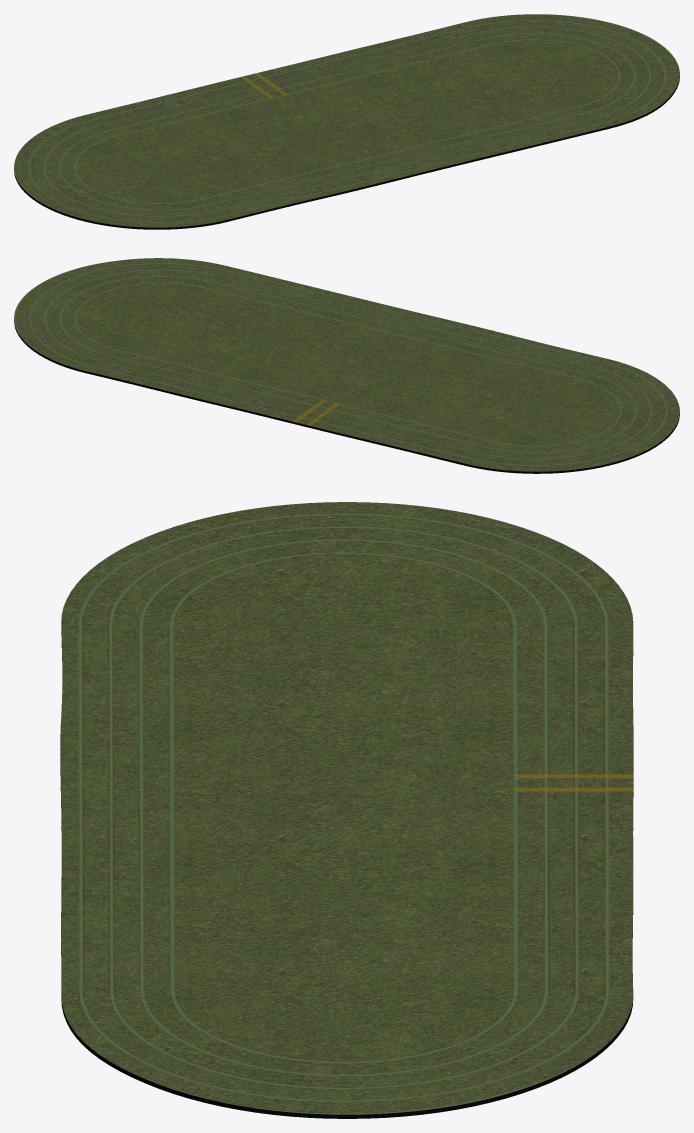
The model's file is Truck3d_d5.glb.
The picture shows the model from 3 angles, top to bottom: view 1: azimuth 30°, elevation 25°; view 2: azimuth 150°, elevation 25°; view 3: azimuth 270°, elevation 25°; orthographic projection. The views are drawn at different scales.
Parts seen in each view (by area): view 1: path133; view 2: path133; view 3: path133.
Part boxes in pixels (box(x1,y1,x2,y2)): path133: box(14, 14, 679, 229); path133: box(14, 258, 679, 473); path133: box(60, 502, 633, 1118).
Bounding box in the file's own units: 5.43 × 0.0175 × 2.15.
Materials: 1 (1 with a texture image).
